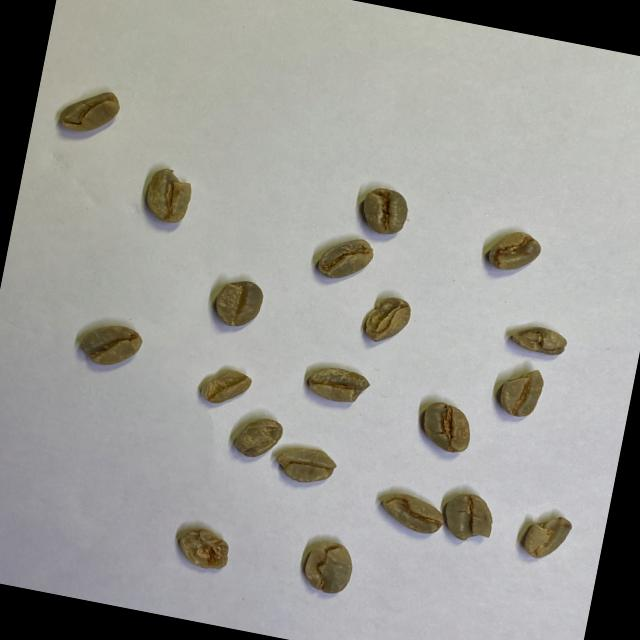bad: (54, 81, 124, 140), (209, 271, 270, 335), (416, 397, 480, 458), (376, 488, 450, 540), (299, 536, 359, 600), (312, 230, 378, 288), (436, 488, 499, 548), (140, 164, 199, 228), (482, 224, 546, 279), (272, 441, 342, 490), (356, 183, 414, 241), (304, 362, 374, 410), (493, 361, 548, 422), (359, 291, 415, 350), (172, 523, 234, 575), (520, 510, 574, 566), (230, 412, 287, 464), (505, 319, 571, 362), (196, 363, 255, 411)
good: (70, 316, 148, 374)
